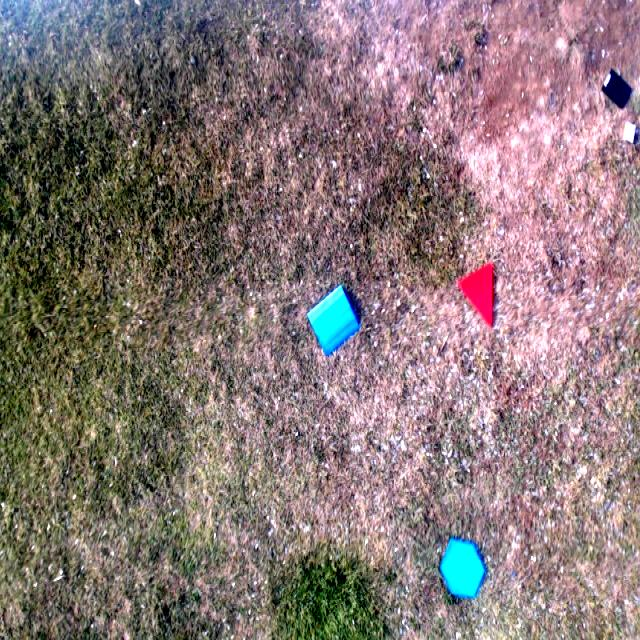blue_hexagon: (441, 536, 485, 596)
blue_square: (309, 284, 361, 355)
red_triangle: (457, 261, 493, 325)
